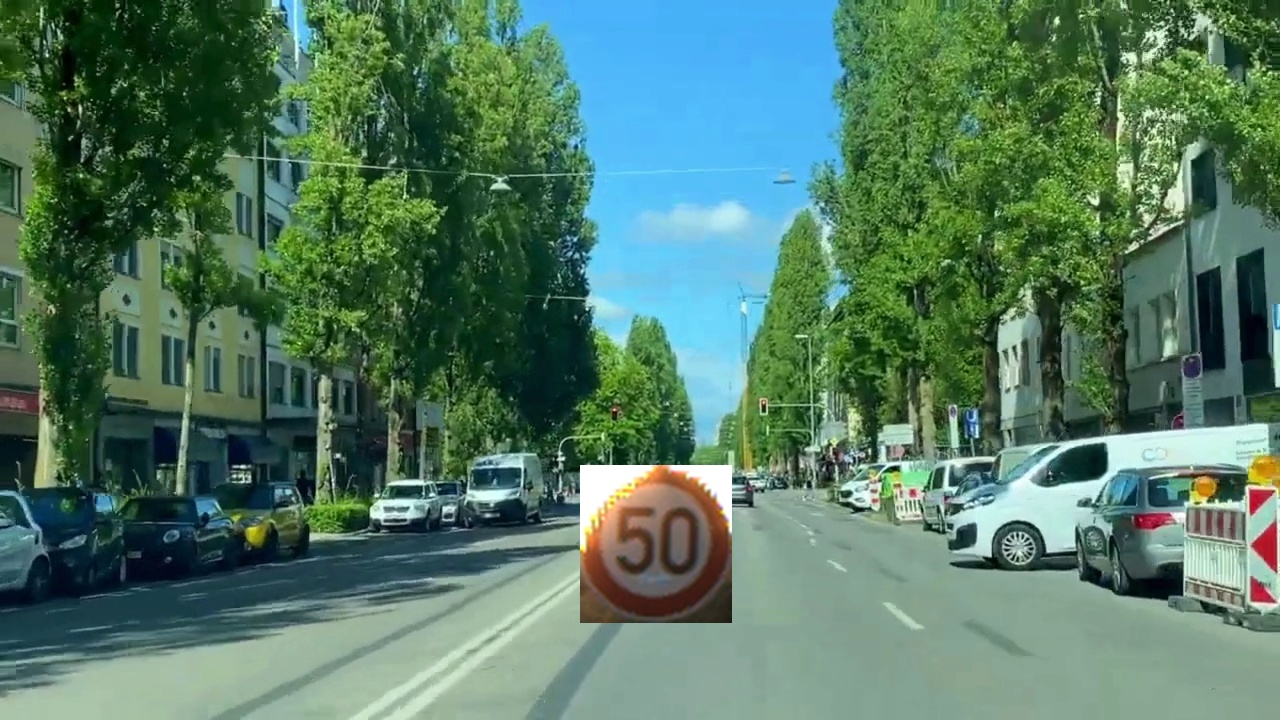Speed 50: (580, 465, 732, 623)
